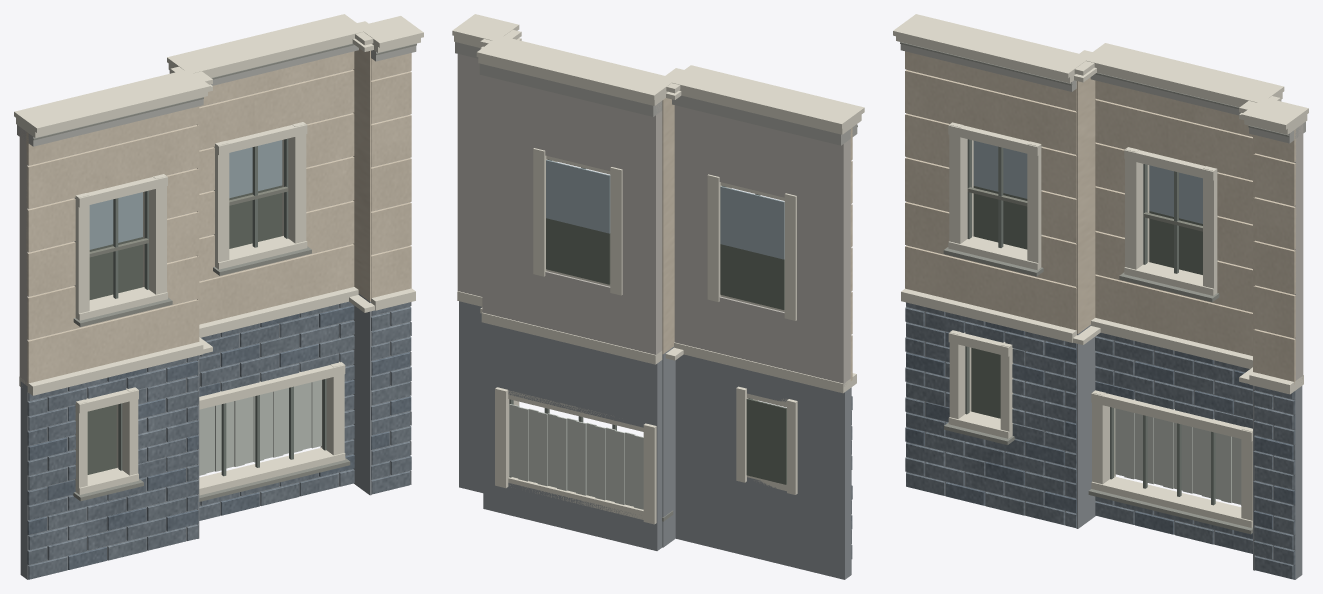
The model's file is dance-court-window-bay-near.glb.
3 renders of one model, left to right at view 1: azimuth 30°, elevation 25°; view 2: azimuth 150°, elevation 25°; view 3: azimuth 330°, elevation 25°, orthographic.
Visible parts, largest first — view 1: 虹桥路舞蹈院团花园住宅群院内错台窗间与灰石基; view 2: 虹桥路舞蹈院团花园住宅群院内错台窗间与灰石基; view 3: 虹桥路舞蹈院团花园住宅群院内错台窗间与灰石基.
Part boxes in pixels (x1,y1,x2,y2): 虹桥路舞蹈院团花园住宅群院内错台窗间与灰石基: [14, 14, 423, 579]; 虹桥路舞蹈院团花园住宅群院内错台窗间与灰石基: [452, 14, 864, 579]; 虹桥路舞蹈院团花园住宅群院内错台窗间与灰石基: [893, 14, 1308, 579].
Bounding box in the file's own units: 4.22 × 4.78 × 0.76.
14 materials, 4 textured.
